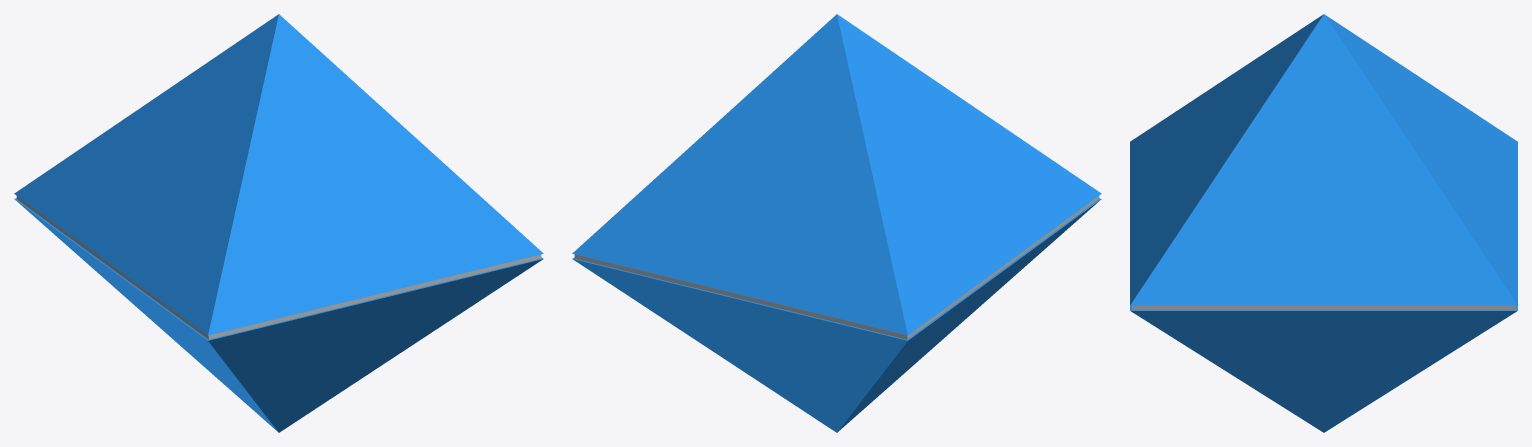
The picture shows the model from 3 angles, left to right: view 1: azimuth 30°, elevation 25°; view 2: azimuth 150°, elevation 25°; view 3: azimuth 270°, elevation 25°; orthographic projection.
Visible parts, largest first — view 1: Cube.002, Cube.001, Cube.003; view 2: Cube.002, Cube.001, Cube.003; view 3: Cube.002, Cube.001, Cube.003.
Boxes of the visible parts, x1=… form: Cube.002: x1=14, y1=14, x2=543, y2=335; Cube.001: x1=14, y1=198, x2=543, y2=432; Cube.003: x1=16, y1=196, x2=541, y2=339; Cube.002: x1=572, y1=14, x2=1101, y2=335; Cube.001: x1=572, y1=198, x2=1101, y2=432; Cube.003: x1=574, y1=196, x2=1099, y2=339; Cube.002: x1=1130, y1=14, x2=1517, y2=305; Cube.001: x1=1130, y1=305, x2=1517, y2=432; Cube.003: x1=1132, y1=305, x2=1515, y2=309.
Bounding box in the file's own units: 201 × 240 × 201.
